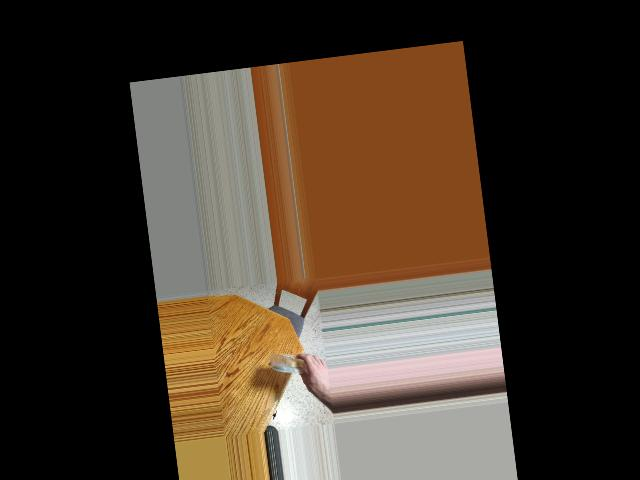cheese: (272, 349, 308, 383)
